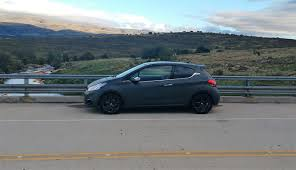car: (83, 60, 221, 115)
